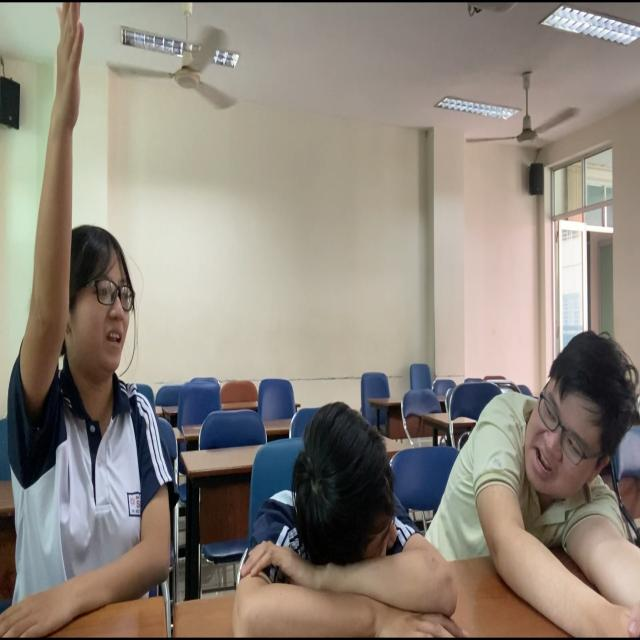raise_hand: (2, 3, 193, 640)
sleep: (227, 396, 465, 640)
